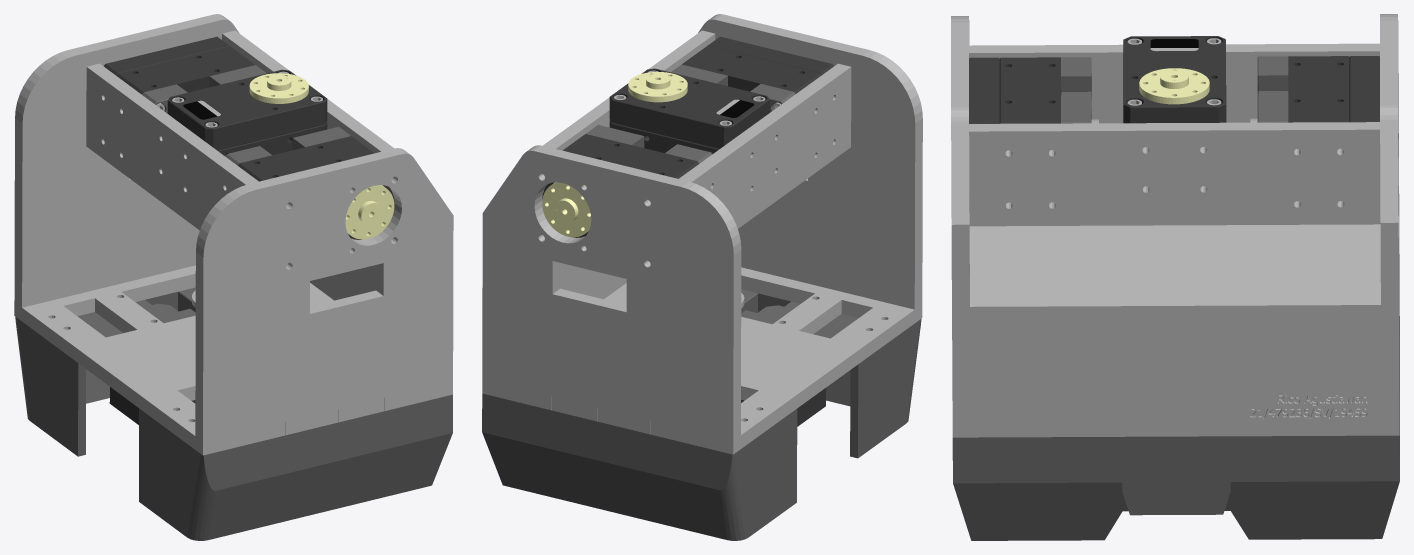
Rendered from Body.obj.
3 renders of one model, left to right at view 1: azimuth 30°, elevation 25°; view 2: azimuth 150°, elevation 25°; view 3: azimuth 270°, elevation 25°, orthographic. The views are drawn at different scales.
Bounding box in the file's own units: 9.5 × 13.42 × 12.45.
